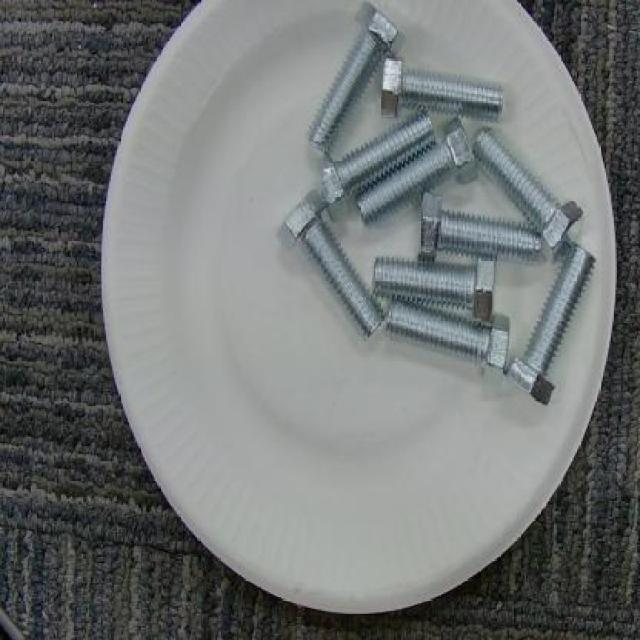Bolt: (279, 195, 388, 340), (503, 248, 602, 406), (305, 3, 405, 155), (471, 129, 584, 260), (356, 120, 479, 220), (316, 108, 434, 208), (414, 191, 544, 271), (385, 300, 511, 382), (370, 251, 497, 323), (379, 59, 511, 128)
